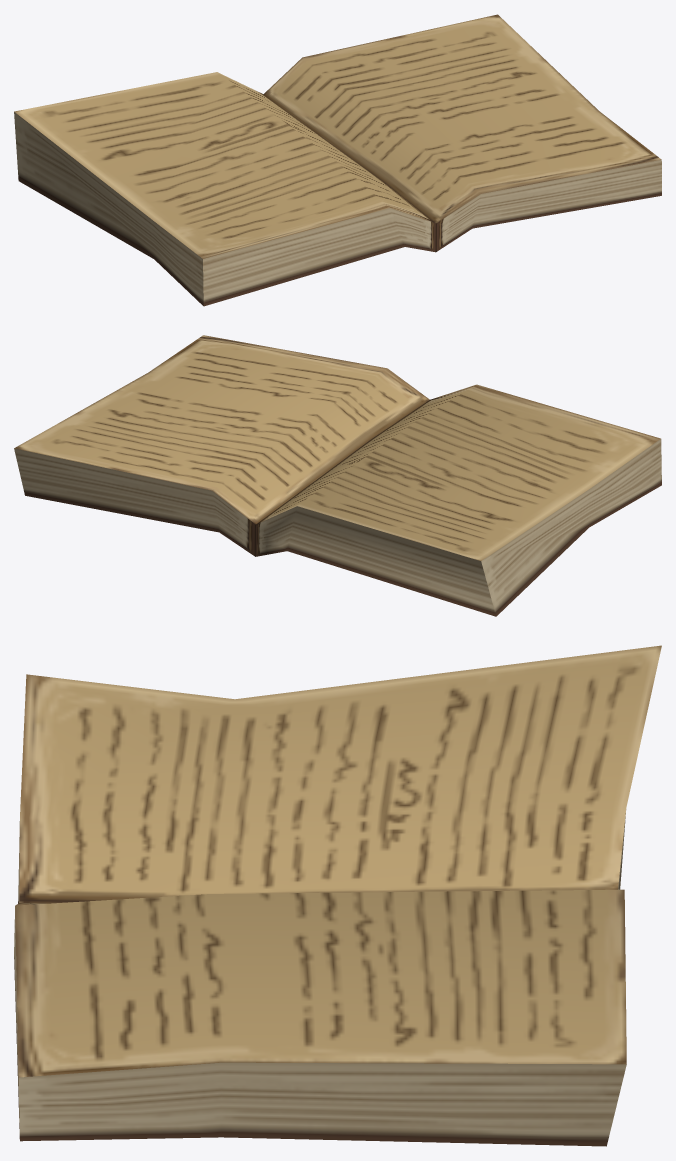
The model's file is SM_PROP_book_city_01.fbx.
3 renders of one model, top to bottom at view 1: azimuth 30°, elevation 25°; view 2: azimuth 150°, elevation 25°; view 3: azimuth 270°, elevation 25°, orthographic. The views are drawn at different scales.
Visible parts, largest first — view 1: SM_PROP_book_city_01; view 2: SM_PROP_book_city_01; view 3: SM_PROP_book_city_01.
Boxes of the visible parts, box(x1,y1,x2,y2) form: SM_PROP_book_city_01: box(14, 14, 661, 306); SM_PROP_book_city_01: box(14, 335, 661, 616); SM_PROP_book_city_01: box(14, 645, 661, 1146).
Bounding box in the file's own units: 44.14 × 5.52 × 29.92.
